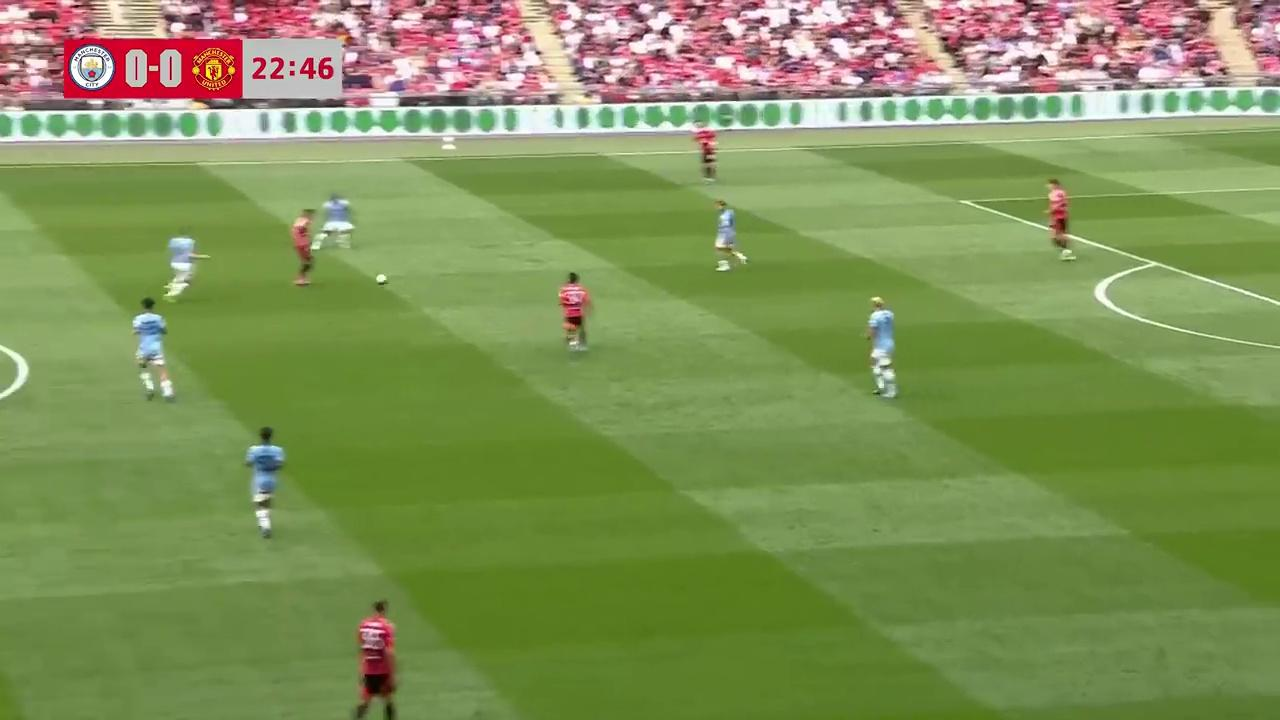ball: (373, 269, 388, 286)
player: (351, 599, 398, 720), (245, 426, 285, 539), (131, 297, 173, 402), (864, 296, 897, 399), (165, 227, 207, 298), (558, 272, 592, 351), (712, 199, 747, 272), (1043, 178, 1074, 260), (317, 192, 355, 250), (290, 209, 315, 286), (691, 123, 717, 181)
